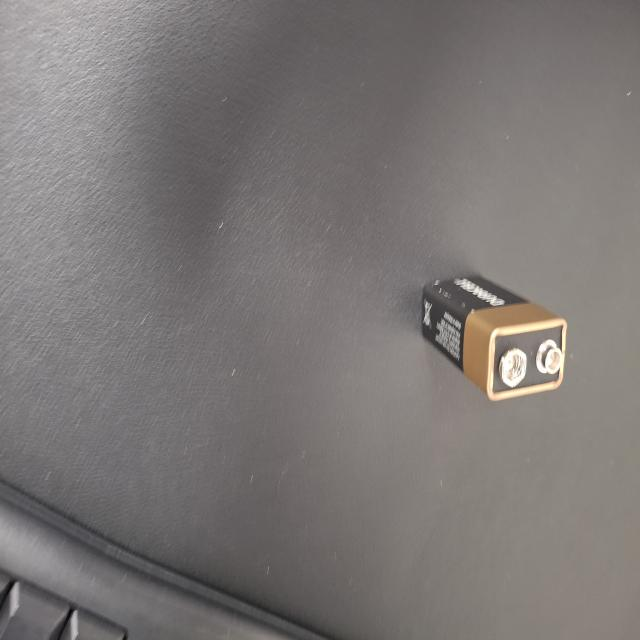9V: (207, 98, 300, 291)
